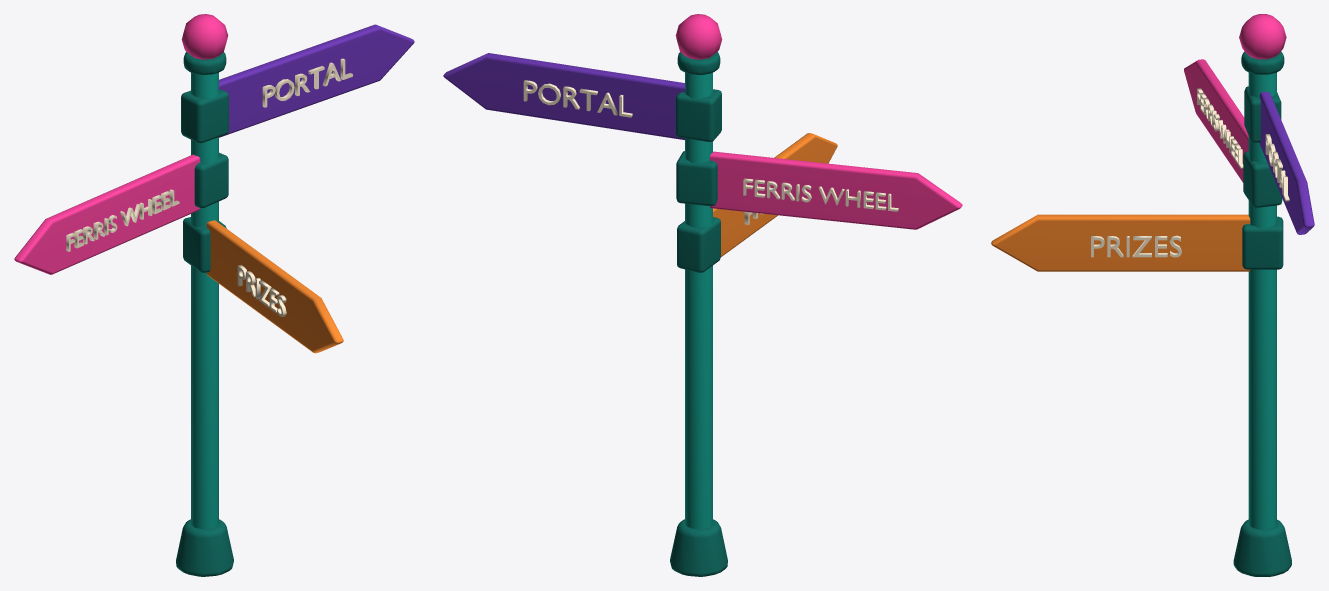
Rendered from signpost_a.glb.
3 renders of one model, left to right at view 1: azimuth 30°, elevation 25°; view 2: azimuth 150°, elevation 25°; view 3: azimuth 270°, elevation 25°, orthographic.
Parts seen in each view (by area): view 1: Signpost; view 2: Signpost; view 3: Signpost.
Part boxes in pixels (left/top/right/bottom): Signpost: left=14, top=14, right=414, bottom=576; Signpost: left=443, top=14, right=962, bottom=576; Signpost: left=991, top=14, right=1314, bottom=576.
Bounding box in the file's own units: 3.34 × 3.83 × 2.04.
